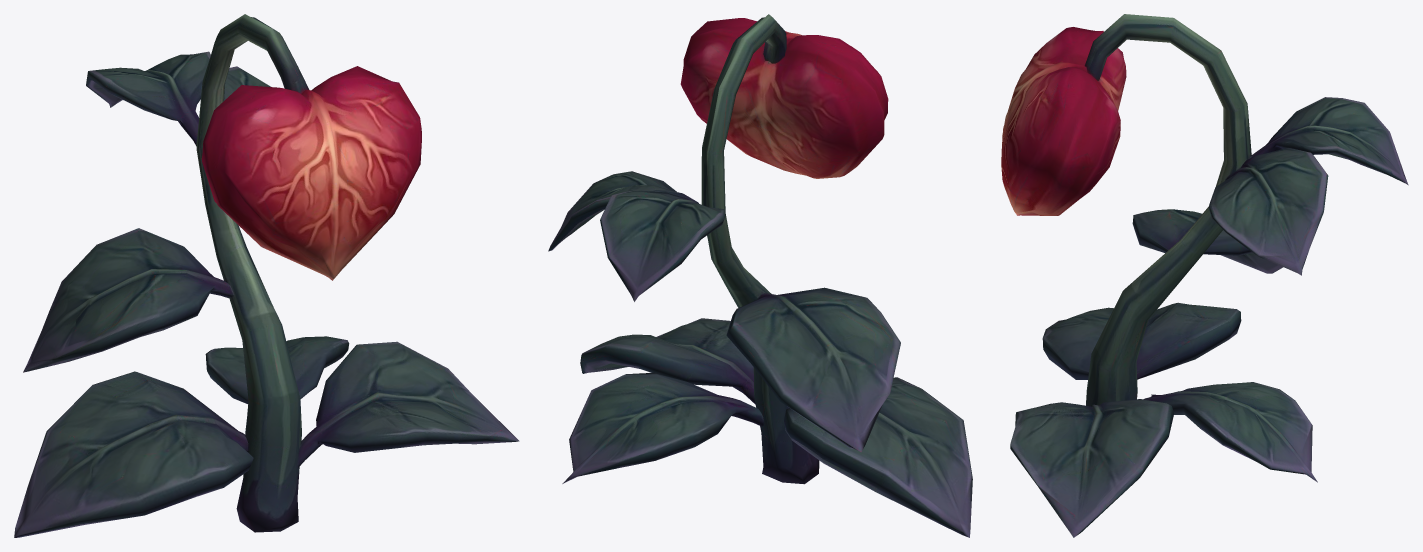
Rendered from p_heartfruit.glb.
3 views of the same model, side by side, from view 1: azimuth 30°, elevation 25°; view 2: azimuth 150°, elevation 25°; view 3: azimuth 270°, elevation 25° (orthographic). The views are drawn at different scales.
Parts seen in each view (by area): view 1: Mesh_0; view 2: Mesh_0; view 3: Mesh_0.
Part boxes in pixels (x1,y1,x2,y2): Mesh_0: [14, 14, 519, 537]; Mesh_0: [548, 14, 972, 537]; Mesh_0: [1001, 14, 1408, 537].
Size of the model in its own units: 0.9856 by 1 by 0.8104.
1 material, 1 textured.
